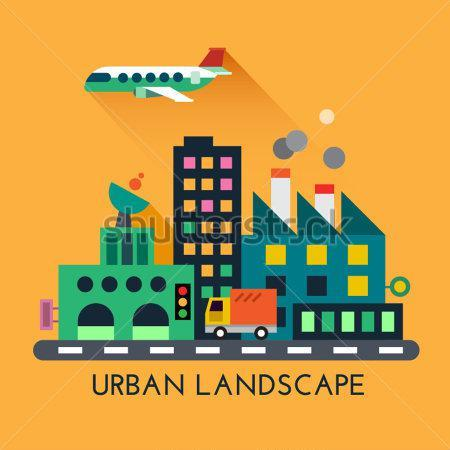aeroplane: (80, 40, 236, 110)
car: (195, 277, 282, 350)
